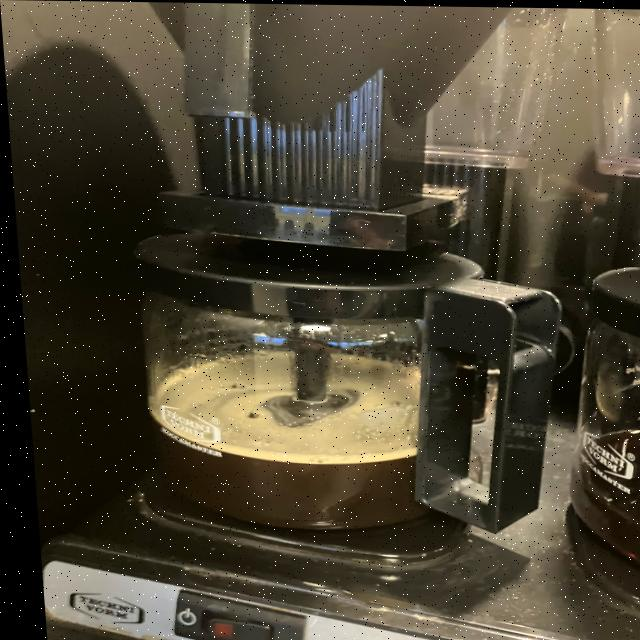coffee: (90, 244, 501, 534), (537, 252, 640, 588)
